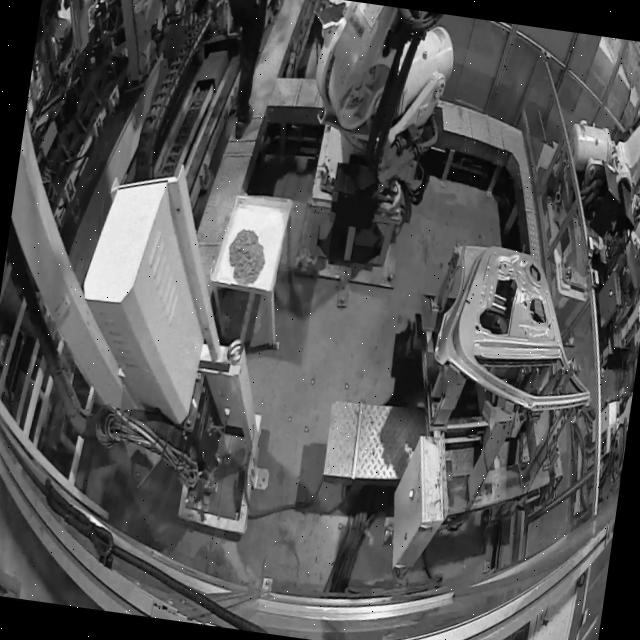Person: (190, 0, 280, 140)
